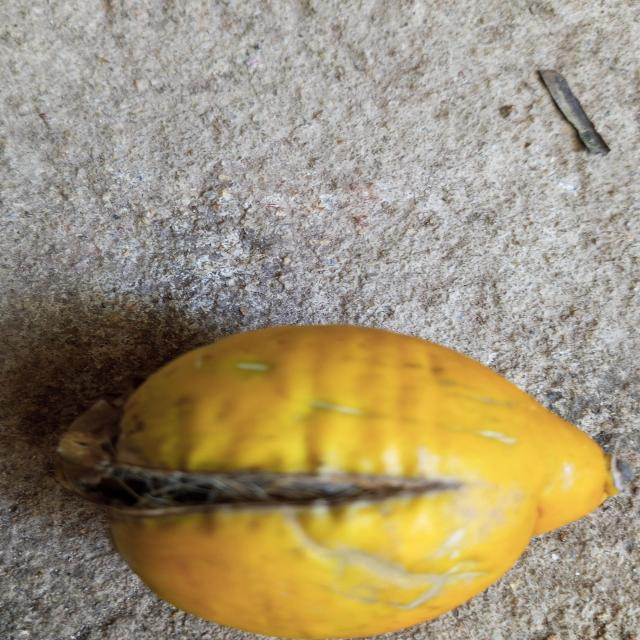damaged: (57, 324, 619, 640)
